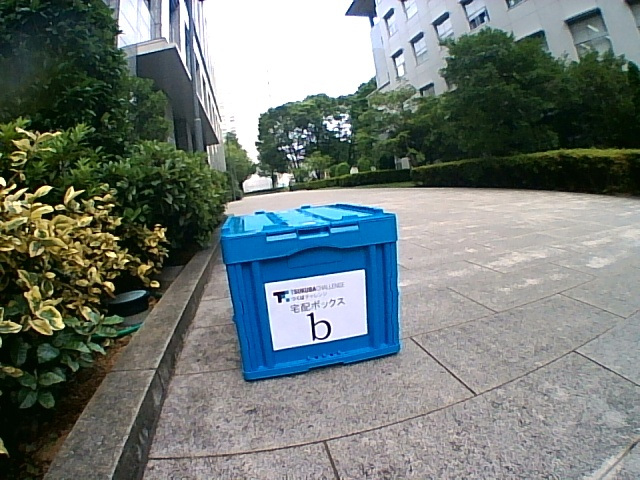green_box: (221, 203, 401, 380)
tag_a: (276, 287, 361, 340)
